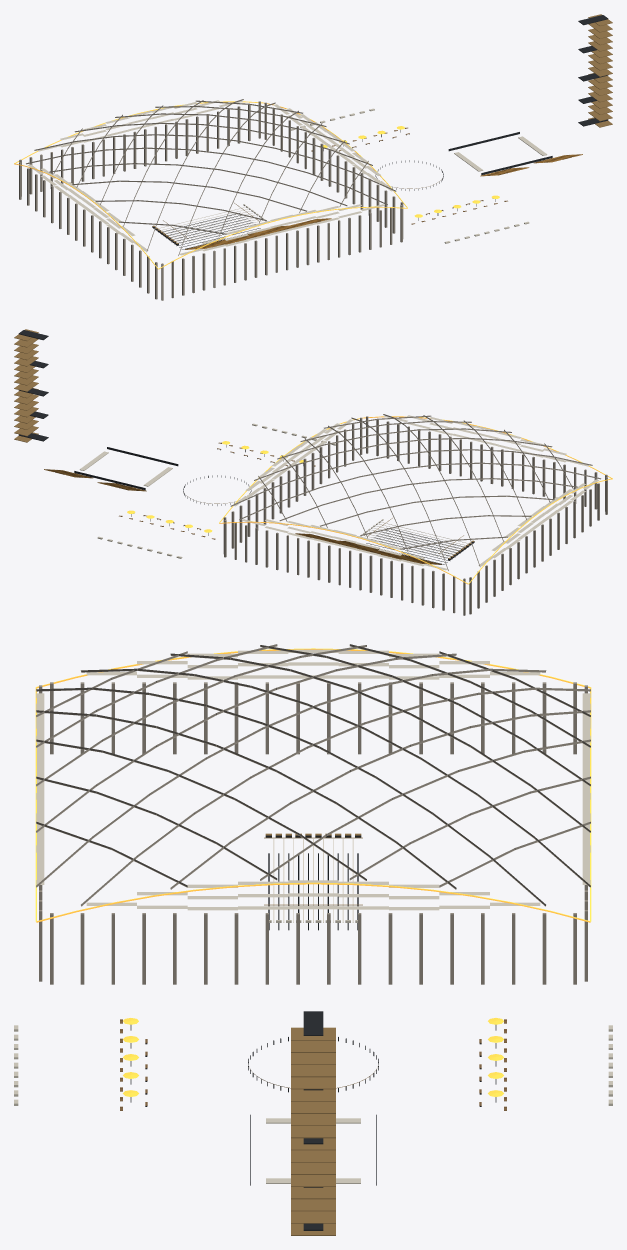
Rendered from dog-aquatics-detail.glb.
The picture shows the model from 3 angles, top to bottom: view 1: azimuth 30°, elevation 25°; view 2: azimuth 150°, elevation 25°; view 3: azimuth 270°, elevation 25°; orthographic projection. The views are drawn at different scales.
Visible parts, largest first — view 1: AQUATICS_DETAIL; view 2: AQUATICS_DETAIL; view 3: AQUATICS_DETAIL.
Part boxes in pixels (x1,y1,x2,y2): AQUATICS_DETAIL: (14,14,612,300); AQUATICS_DETAIL: (14,329,612,615); AQUATICS_DETAIL: (14,644,612,1235).
Bounding box in the file's own units: 292 × 63.47 × 151.
